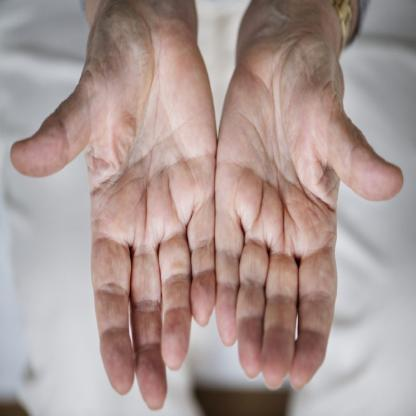palm: (9, 0, 216, 414), (215, 0, 403, 393)
